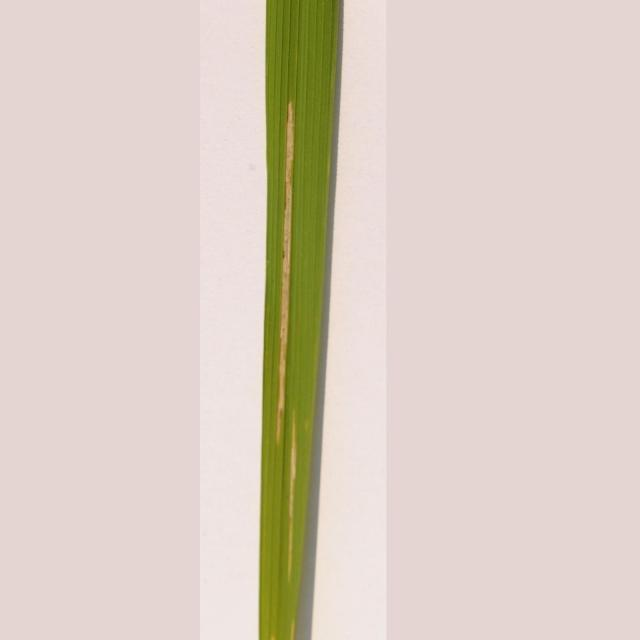Bacterial_Leaf_Blight: (233, 56, 370, 640)
